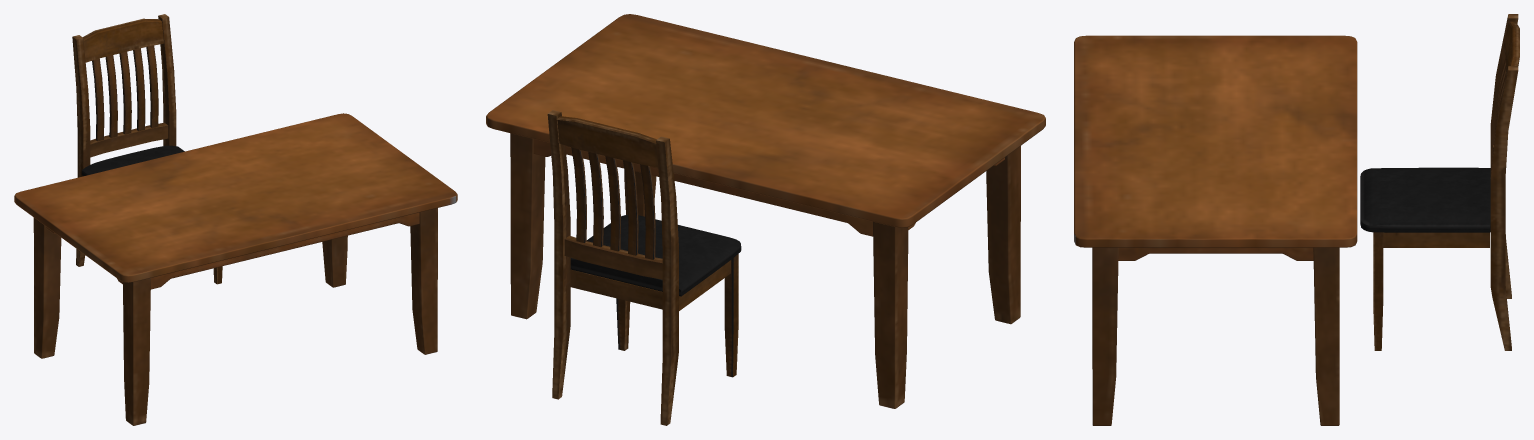
File: old_table.fbx
3 renders of one model, left to right at view 1: azimuth 30°, elevation 25°; view 2: azimuth 150°, elevation 25°; view 3: azimuth 270°, elevation 25°, orthographic. The views are drawn at different scales.
Parts seen in each view (by area): view 1: old_table, chair; view 2: old_table, chair; view 3: old_table, chair.
Boxes of the visible parts, bbox=[...] form: old_table: bbox=[14, 113, 457, 425]; chair: bbox=[72, 14, 222, 284]; old_table: bbox=[486, 14, 1045, 408]; chair: bbox=[547, 110, 741, 425]; old_table: bbox=[1074, 35, 1357, 425]; chair: bbox=[1360, 14, 1519, 350].
Size of the model in its own units: 3.57 by 2.41 by 3.3.
